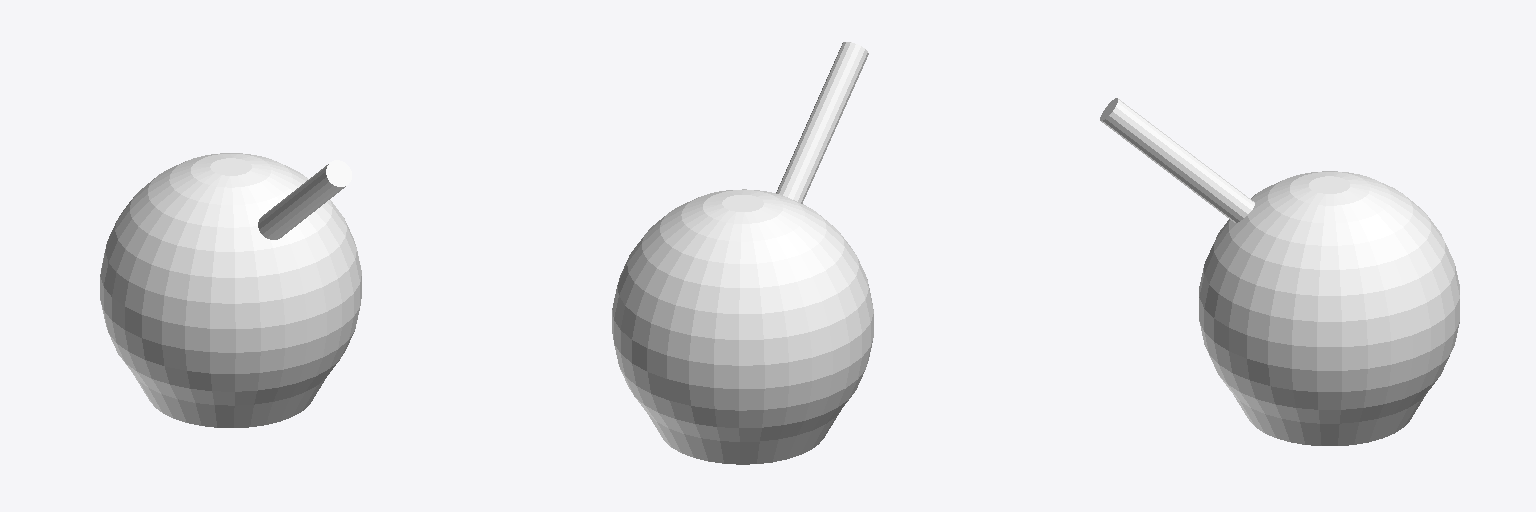
File: emplacement.obj
3 views of the same model, side by side, from view 1: azimuth 30°, elevation 25°; view 2: azimuth 150°, elevation 25°; view 3: azimuth 270°, elevation 25° (orthographic).
Parts seen in each view (by area): view 1: cylinder1; view 2: cylinder1; view 3: cylinder1.
Part boxes in pixels (left/top/right/bottom): cylinder1: left=100, top=153, right=361, bottom=427; cylinder1: left=612, top=42, right=873, bottom=464; cylinder1: left=1100, top=98, right=1459, bottom=445.
Bounding box in the file's own units: 0.9084 × 1.19 × 1.25.